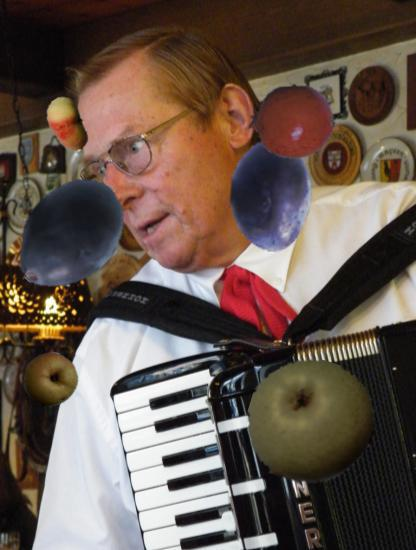Peach: (40, 96, 97, 153)
Pear: (247, 359, 374, 486), (23, 352, 80, 409)
Plum: (8, 173, 134, 299), (214, 139, 328, 253)
Pomegranate: (246, 76, 337, 167)
